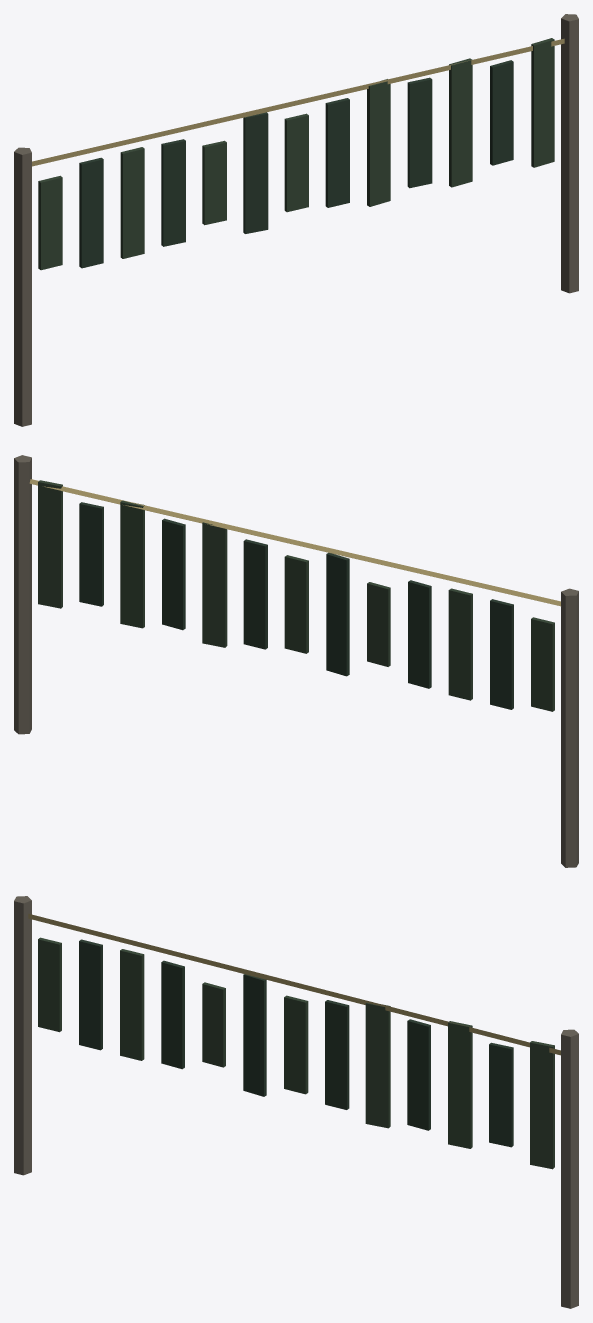
Rendered from a3h_seaweed_line.glb.
The picture shows the model from 3 angles, top to bottom: view 1: azimuth 30°, elevation 25°; view 2: azimuth 150°, elevation 25°; view 3: azimuth 330°, elevation 25°; orthographic projection.
Visible parts, largest first — view 1: a3h_seaweed_line; view 2: a3h_seaweed_line; view 3: a3h_seaweed_line.
Boxes of the visible parts, box(x1,y1,x2,y2) form: a3h_seaweed_line: box(14, 14, 578, 426); a3h_seaweed_line: box(14, 455, 578, 867); a3h_seaweed_line: box(14, 896, 578, 1308).
Size of the model in its own units: 4.11 by 1.9 by 0.1085.
